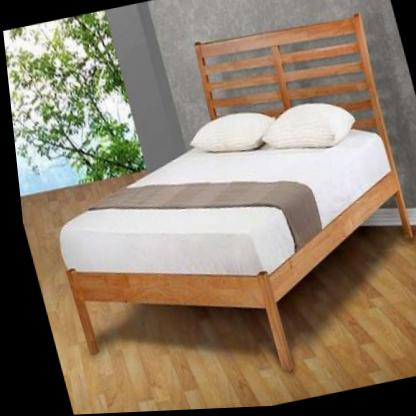Bed: (7, 7, 416, 413)
